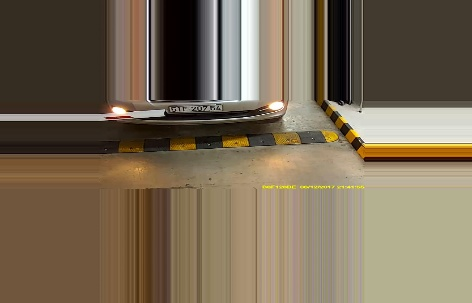plate: (165, 101, 225, 116)
